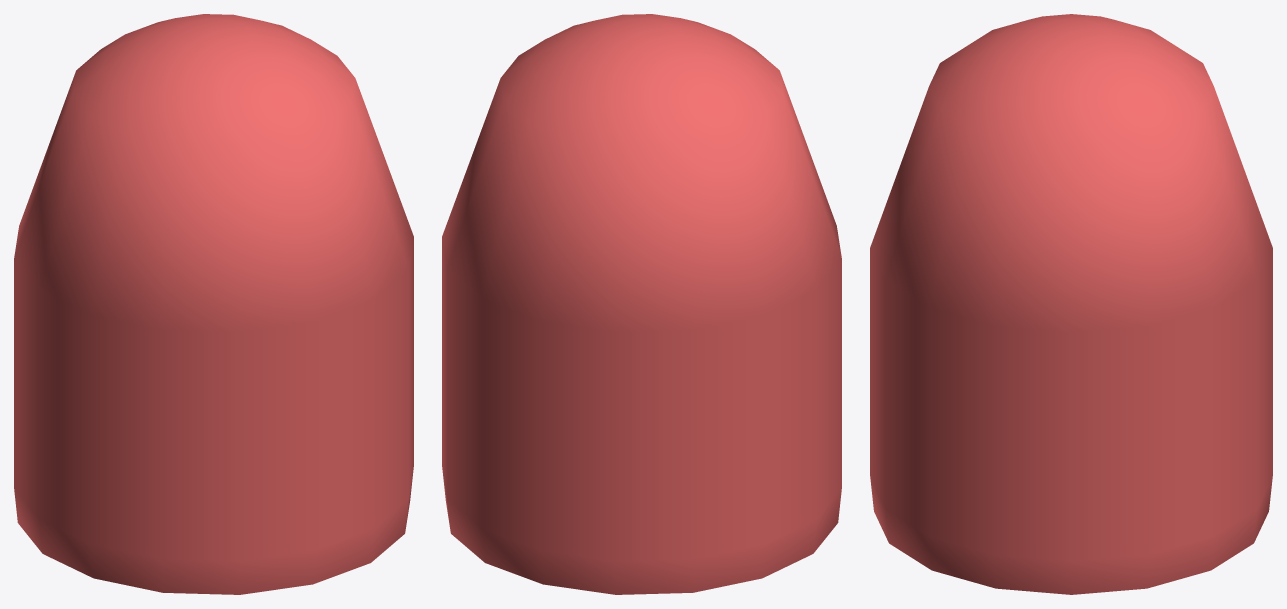
Rendered from red-blood-cell.glb.
3 views of the same model, side by side, from view 1: azimuth 30°, elevation 25°; view 2: azimuth 150°, elevation 25°; view 3: azimuth 270°, elevation 25° (orthographic).
Visible parts, largest first — view 1: red-blood-cell-node; view 2: red-blood-cell-node; view 3: red-blood-cell-node.
Boxes of the visible parts, left/top/right/bottom form: red-blood-cell-node: left=14, top=14, right=413, bottom=594; red-blood-cell-node: left=442, top=14, right=841, bottom=594; red-blood-cell-node: left=870, top=14, right=1272, bottom=594.
Size of the model in its own units: 1.4 by 1.84 by 1.4.
